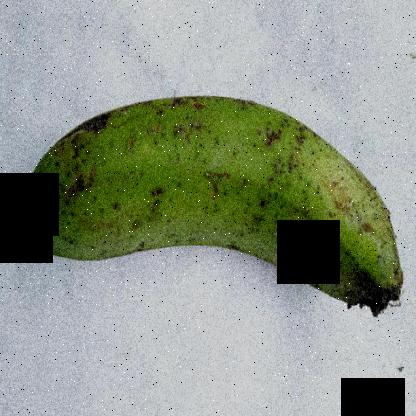unripe: (1, 67, 406, 341)
